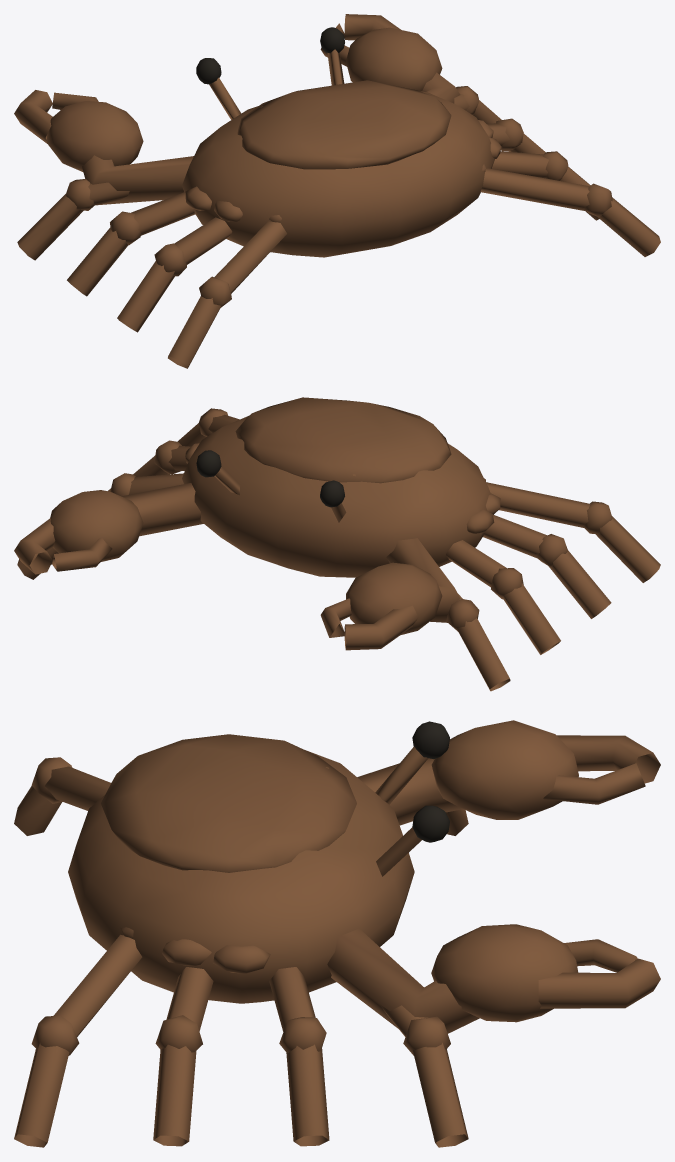
The model's file is crab.glb.
3 renders of one model, top to bottom at view 1: azimuth 30°, elevation 25°; view 2: azimuth 150°, elevation 25°; view 3: azimuth 270°, elevation 25°, orthographic. The views are drawn at different scales.
Parts seen in each view (by area): view 1: shell, eye; view 2: shell, eye; view 3: shell, eye.
Part boxes in pixels (box(x1,y1,x2,y2)): shell: box(14, 14, 660, 368); eye: box(196, 27, 344, 84); shell: box(14, 397, 660, 691); eye: box(196, 450, 344, 507); shell: box(14, 720, 660, 1147); eye: box(412, 721, 449, 842).
Bounding box in the file's own units: 0.9526 × 0.302 × 0.7837.
